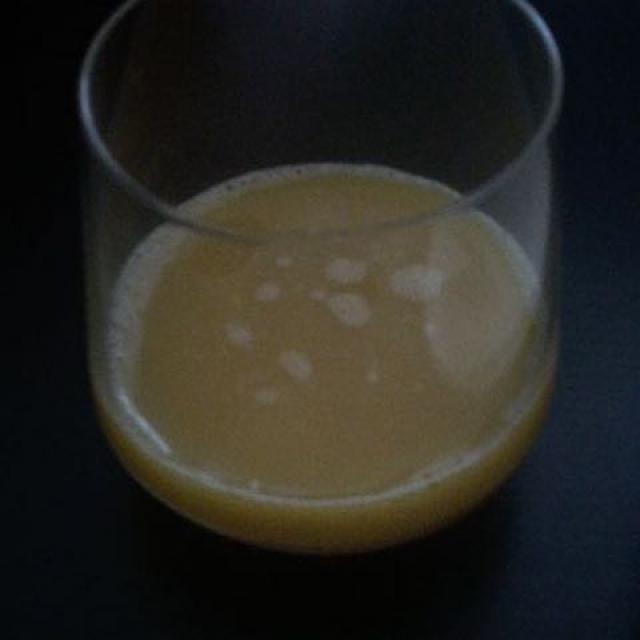drink: (94, 155, 554, 531)
